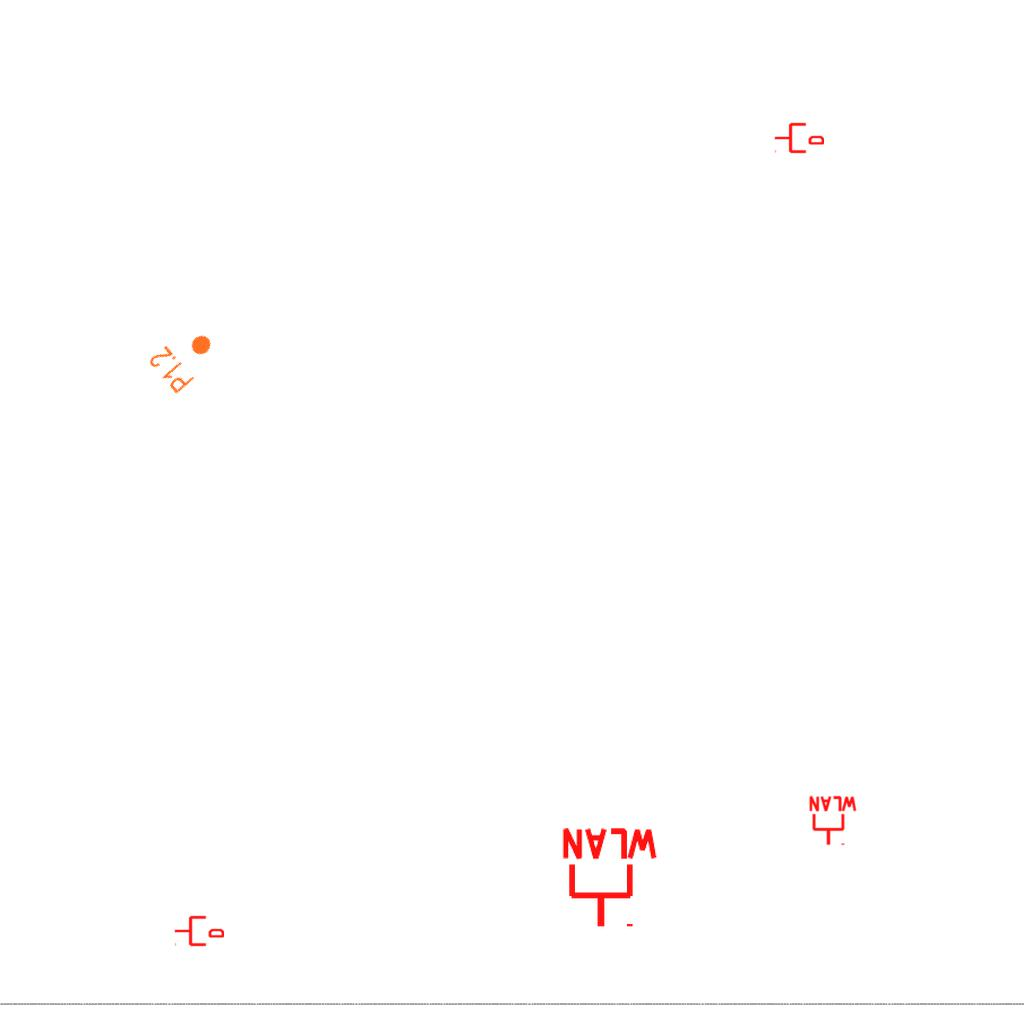Datenanschluss_einfach: (774, 121, 824, 155), (174, 914, 224, 948)
Downlight_LED_Einbauleuchten_Flur: (145, 319, 225, 397)
WLAN: (558, 826, 662, 931), (807, 795, 859, 847)
